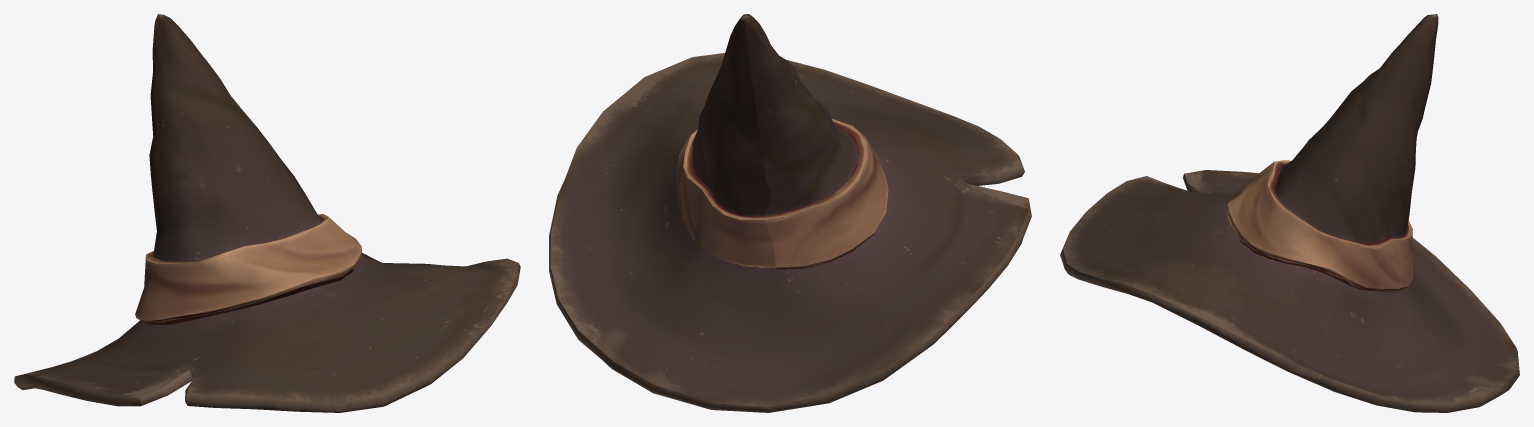
The model's file is sombrerito.fbx.
The picture shows the model from 3 angles, left to right: view 1: azimuth 30°, elevation 25°; view 2: azimuth 150°, elevation 25°; view 3: azimuth 270°, elevation 25°; orthographic projection. The views are drawn at different scales.
Visible parts, largest first — view 1: Object_2; view 2: Object_2; view 3: Object_2.
Boxes of the visible parts, x1,y1,x2,y2 form: Object_2: [14, 14, 520, 412]; Object_2: [549, 14, 1031, 412]; Object_2: [1060, 14, 1519, 412].
Bounding box in the file's own units: 219 × 177 × 213.
Materials: 1 (1 with a texture image).
